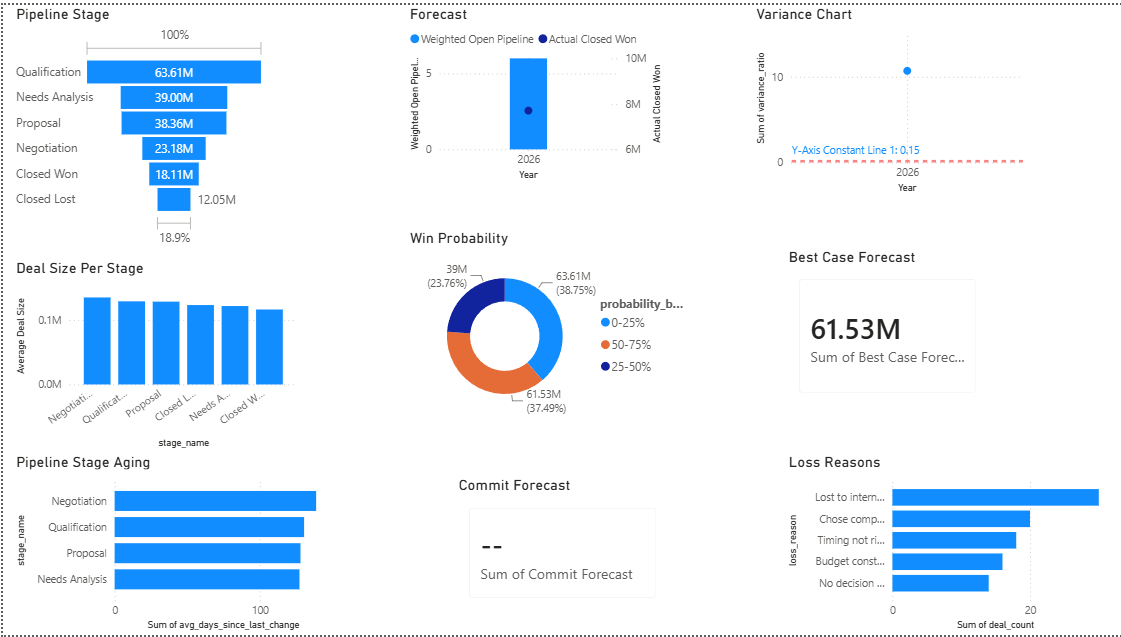

The dashboard page shown, as its layout file describes it:
{"tool":"powerbi","page":{"name":"Pipeline Health","canvas":[1280,720],"ordinal":1},"visuals":[{"type":"funnel","title":"Pipeline Stage","fields":{"Category":["public vw_pipeline_summary.stage_name"],"Y":["Sum(public vw_pipeline_summary.total_value)"]},"box":[10,0,295,280],"z":0},{"type":"clusteredColumnChart","title":"Deal Size Per Stage","fields":{"Category":["public vw_pipeline_summary.stage_name"],"Y":["public vw_pipeline_summary.Average Deal Size"]},"box":[10,290,331.7,221.7],"z":1000},{"type":"clusteredBarChart","title":"Pipeline Stage Aging","fields":{"Category":["public vw_stage_aging.stage_name"],"Y":["Sum(public vw_stage_aging.avg_days_since_last_change)"]},"box":[10,511.7,381.7,208.3],"z":2000},{"type":"lineClusteredColumnComboChart","title":"Forecast","fields":{"Category":["22_forecast_variance.forecast_month.Variation.Date Hierarchy.Year","22_forecast_variance.forecast_month.Variation.Date Hierarchy.Quarter","22_forecast_variance.forecast_month.Variation.Date Hierarchy.Month","22_forecast_variance.forecast_month.Variation.Date Hierarchy.Day"],"Y":["CountNonNull(22_forecast_variance.weighted_open_pipeline)"],"Y2":["Sum(22_forecast_variance.actual_closed_won)"]},"box":[460,0,298.3,205],"z":3000},{"type":"donutChart","title":"Win Probability","fields":{"Category":["public vw_win_probability_buckets.probability_bucket"],"Y":["Sum(public vw_win_probability_buckets.total_value)"]},"box":[460,255,328.3,226.7],"z":4000},{"type":"clusteredBarChart","title":"Loss Reasons","fields":{"Category":["19_loss_reason_distribution.loss_reason"],"Y":["Sum(19_loss_reason_distribution.deal_count)"]},"box":[893.3,511.7,371.7,208.3],"z":5000},{"type":"cardVisual","title":"Best Case Forecast","fields":{"Data":["Sum(21_forecast_scenarios.best_case_forecast)"]},"box":[893.3,276.7,236.7,183.3],"z":6000},{"type":"cardVisual","title":"Commit Forecast","fields":{"Data":["Sum(21_forecast_scenarios.commit_forecast)"]},"box":[515,538.3,248.3,156.7],"z":6001},{"type":"lineChart","title":"Variance Chart","fields":{"Category":["22_forecast_variance.forecast_month.Variation.Date Hierarchy.Year","22_forecast_variance.forecast_month.Variation.Date Hierarchy.Quarter","22_forecast_variance.forecast_month.Variation.Date Hierarchy.Month","22_forecast_variance.forecast_month.Variation.Date Hierarchy.Day"],"Y":["Sum(22_forecast_variance.variance_ratio)"]},"box":[855,0,315,220],"z":6002}]}

Visuals, with their boxes in screenshot pixels (x1, y1, x2, y2), scaled from the page's 1280x720 canvas onto the 1121x637 screenshot:
"Pipeline Stage" funnel: [left=9, top=0, right=267, bottom=248]
"Deal Size Per Stage" clusteredColumnChart: [left=9, top=257, right=299, bottom=453]
"Pipeline Stage Aging" clusteredBarChart: [left=9, top=453, right=343, bottom=636]
"Forecast" lineClusteredColumnComboChart: [left=403, top=0, right=664, bottom=181]
"Win Probability" donutChart: [left=403, top=226, right=690, bottom=426]
"Loss Reasons" clusteredBarChart: [left=782, top=453, right=1108, bottom=636]
"Best Case Forecast" cardVisual: [left=782, top=245, right=990, bottom=407]
"Commit Forecast" cardVisual: [left=451, top=476, right=668, bottom=615]
"Variance Chart" lineChart: [left=749, top=0, right=1025, bottom=195]
